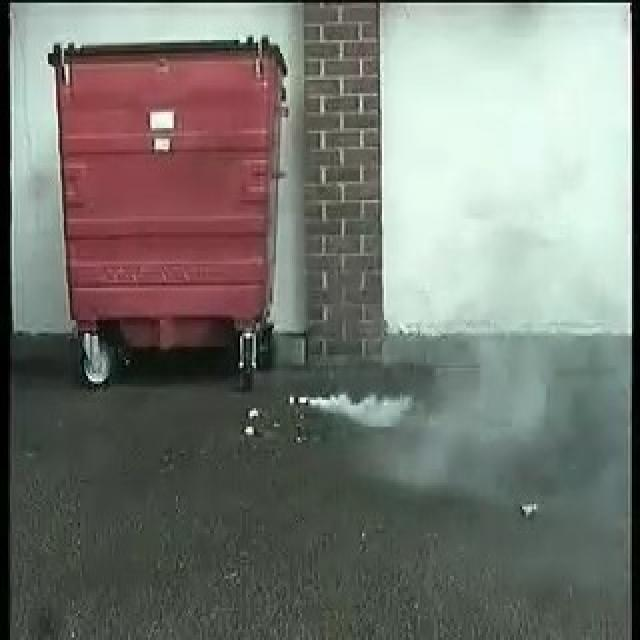smoke: (286, 370, 464, 441)
